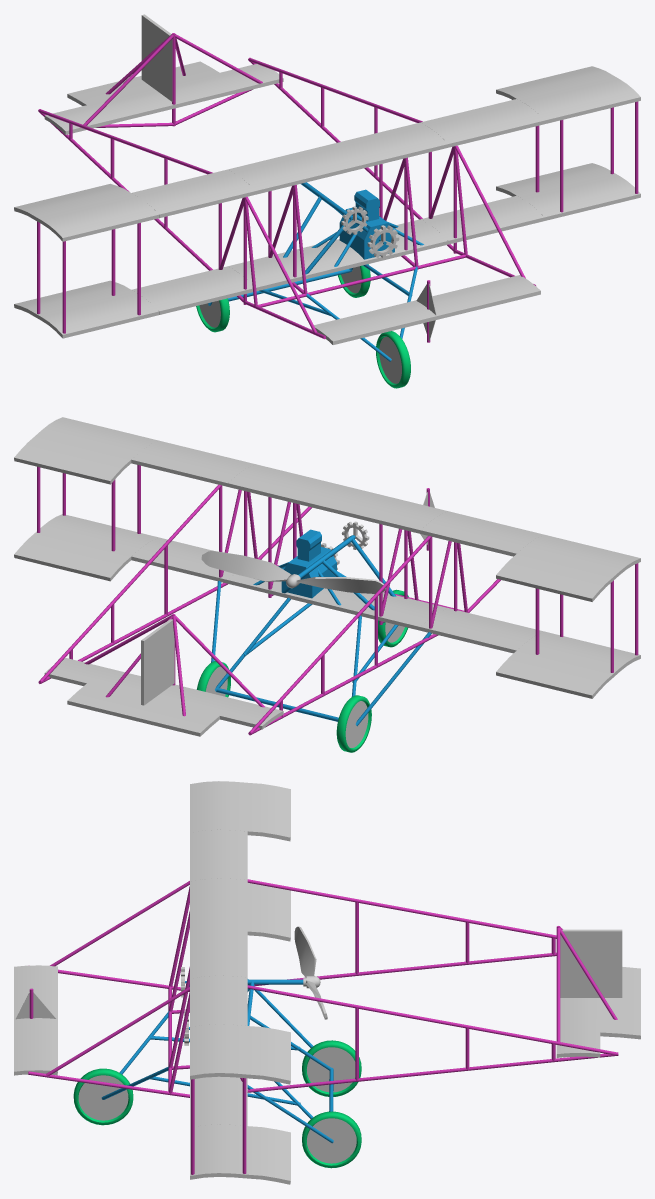
The picture shows the model from 3 angles, top to bottom: view 1: azimuth 30°, elevation 25°; view 2: azimuth 150°, elevation 25°; view 3: azimuth 270°, elevation 25°; orthographic projection. The views are drawn at different scales.
Parts seen in each view (by area): view 1: plane_Cube.038; view 2: plane_Cube.038, propeller_Sphere; view 3: plane_Cube.038, propeller_Sphere.
Part boxes in pixels (x1=…): plane_Cube.038: x1=14, y1=14, x2=640, y2=388; plane_Cube.038: x1=14, y1=417, x2=640, y2=752; propeller_Sphere: x1=201, y1=550, x2=386, y2=593; plane_Cube.038: x1=14, y1=781, x2=640, y2=1184; propeller_Sphere: x1=294, y1=926, x2=327, y2=1019.
Size of the model in its own units: 12 by 3.94 by 10.9.
